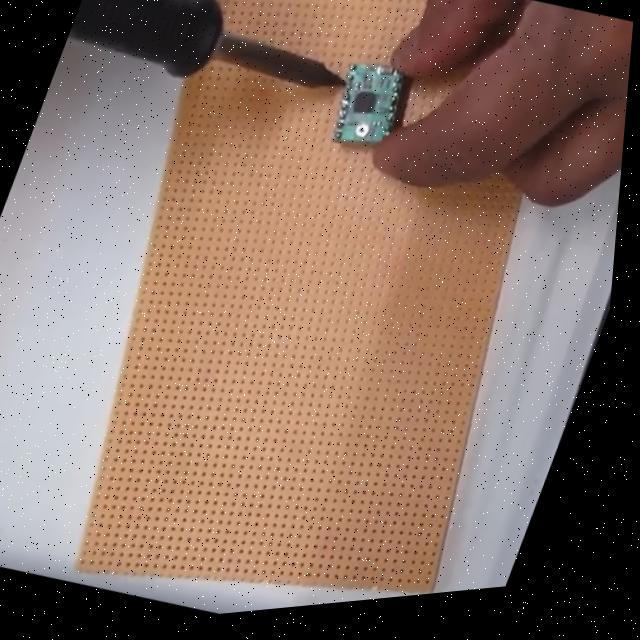Chip: (325, 49, 420, 161)
soldering_iron: (51, 0, 371, 146)
